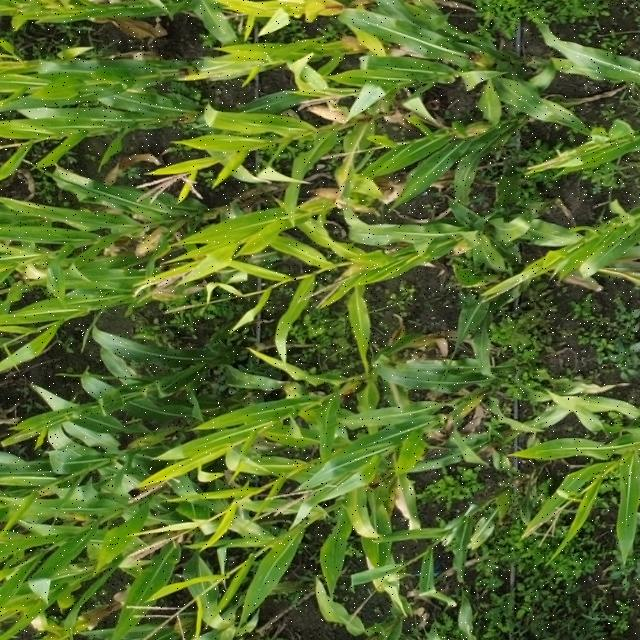gray-leaf-spot: (235, 370, 276, 392), (317, 596, 346, 622)
northern-leaf-blight: (392, 473, 420, 525), (387, 378, 411, 407)
